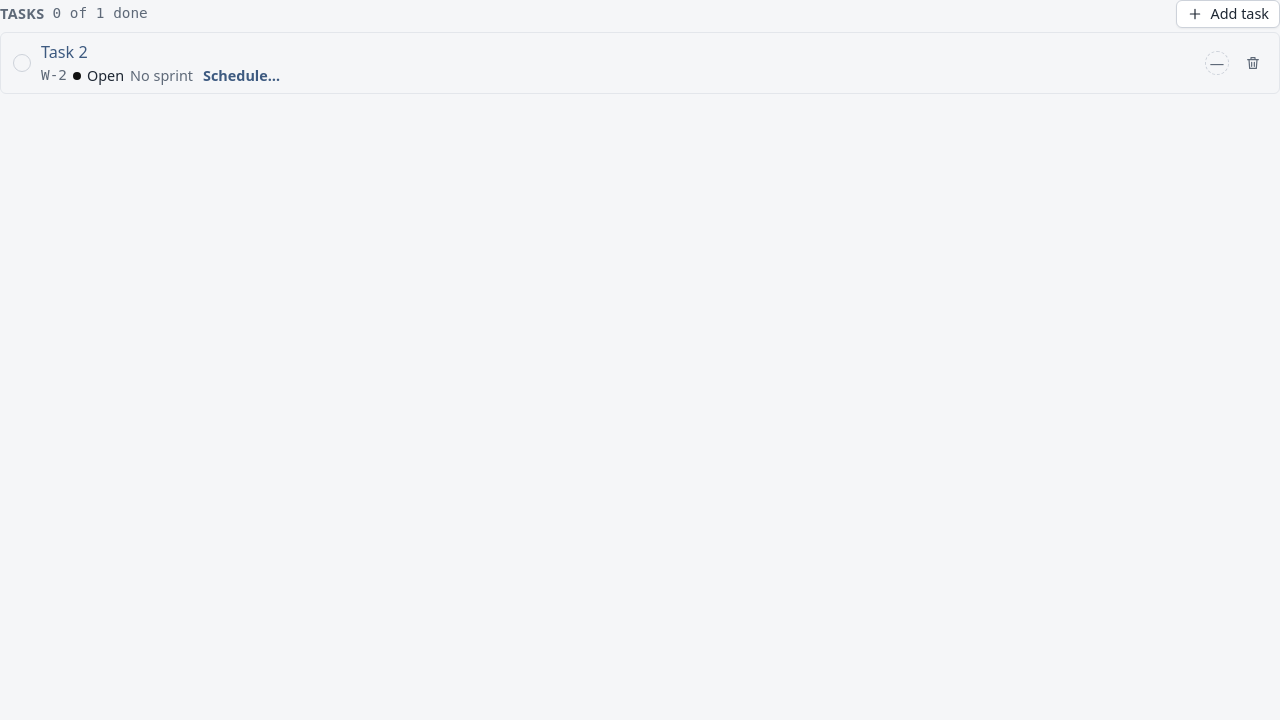
it: TasksSection: the Schedule dialog › moves the task into the chosen sprint without a status, then refreshes and closes
Click the button "Schedule…" at {"x": 242, "y": 76}, box [199,66,284,85]
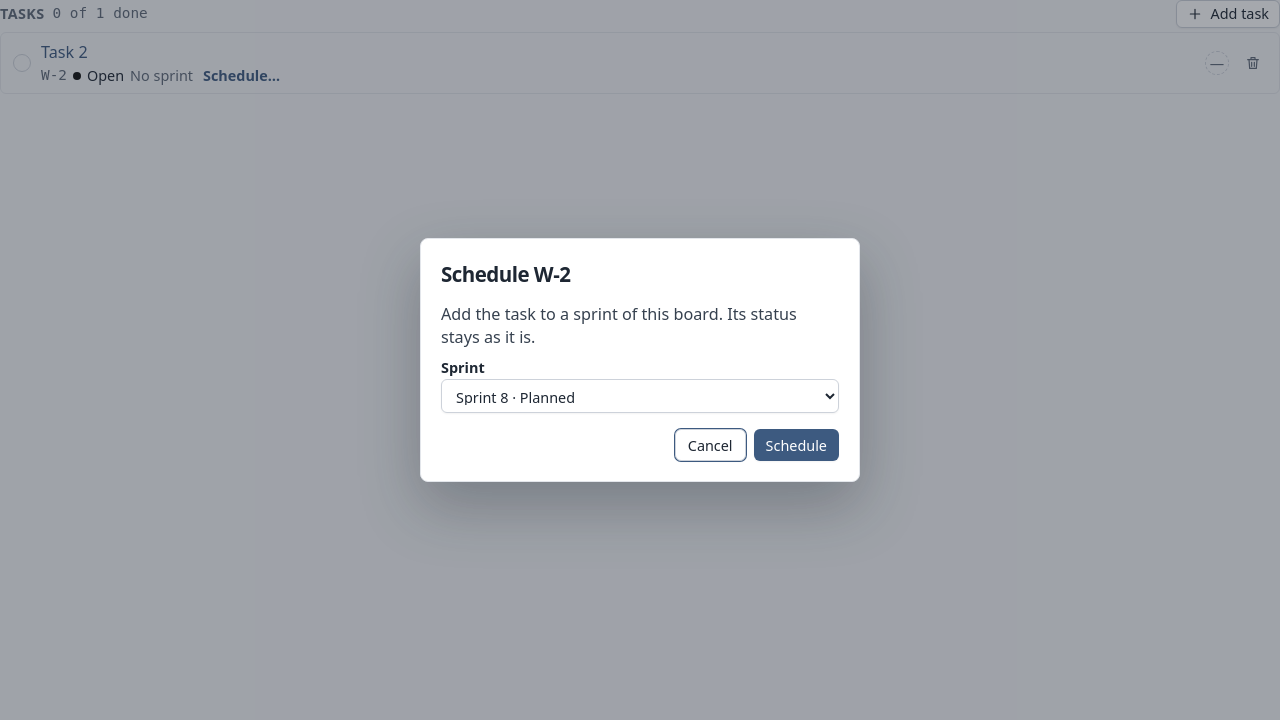
Select "Sprint 7 · Active" in the dropdown labelled "Sprint" at {"x": 640, "y": 396}, box [441,379,839,413]
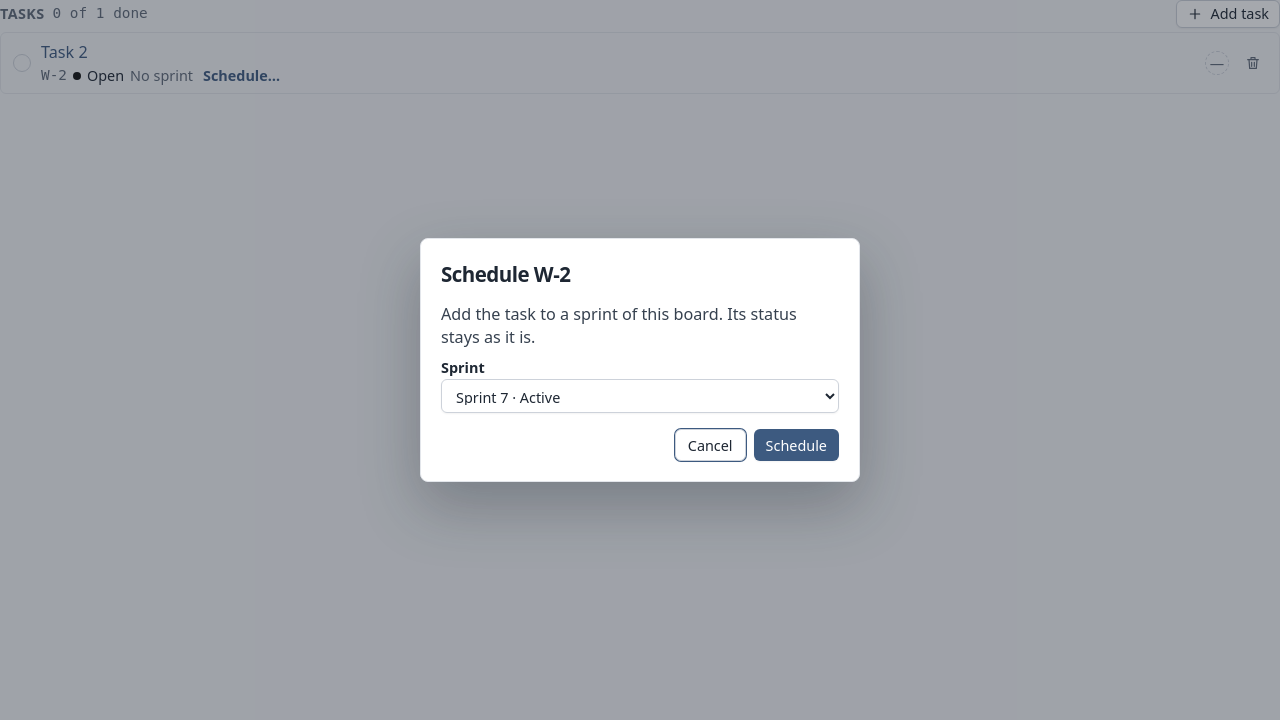
Click the button "Schedule" at {"x": 796, "y": 445}, box [754,429,839,461]
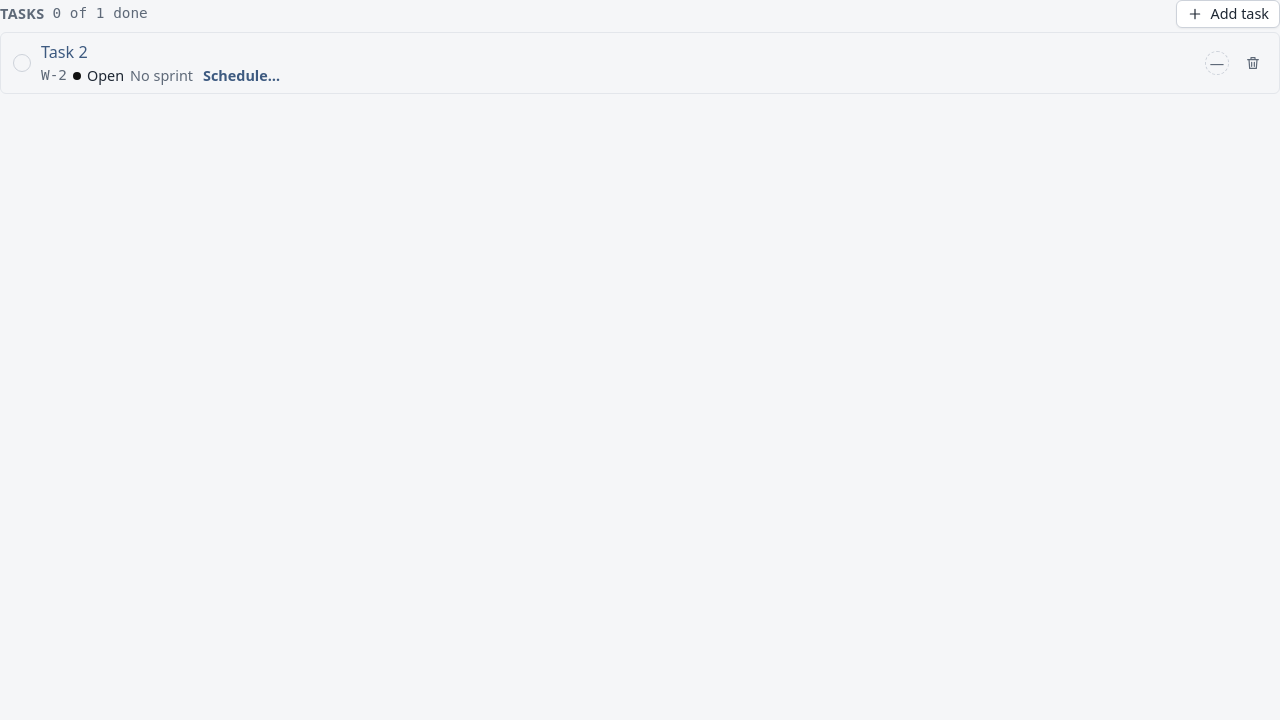
Expected: the dialog is gone
